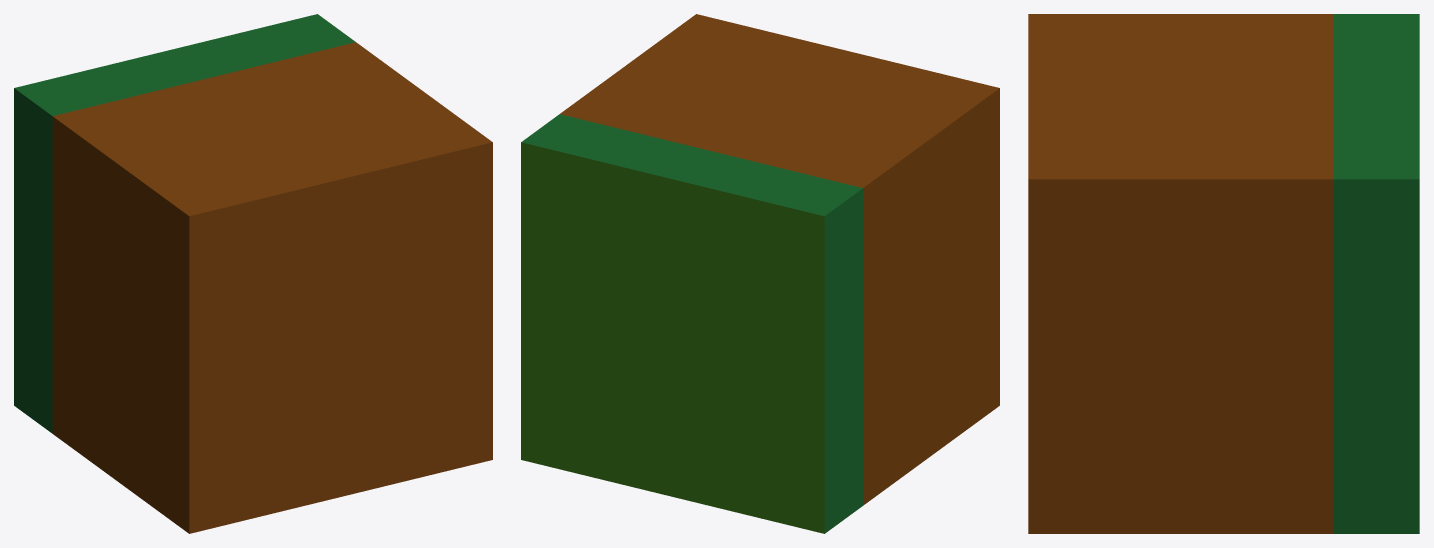
The model's file is natural ground.fbx.
3 renders of one model, left to right at view 1: azimuth 30°, elevation 25°; view 2: azimuth 150°, elevation 25°; view 3: azimuth 270°, elevation 25°, orthographic. The views are drawn at different scales.
Visible parts, largest first — view 1: Cube; view 2: Cube; view 3: Cube.
Boxes of the visible parts, <box> form: Cube: <box>14,14,492,533</box>; Cube: <box>521,14,999,533</box>; Cube: <box>1028,14,1419,533</box>.
Size of the model in its own units: 200 by 200 by 200.
